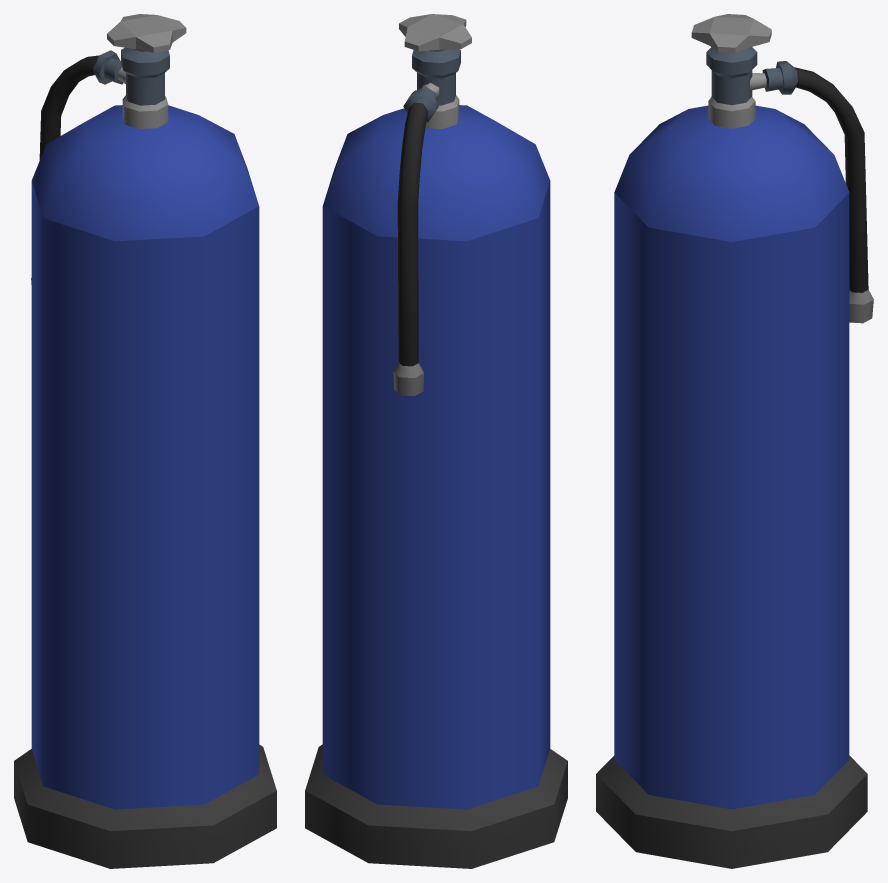
File: GasCylinder_1_1.fbx
The picture shows the model from 3 angles, left to right: view 1: azimuth 30°, elevation 25°; view 2: azimuth 150°, elevation 25°; view 3: azimuth 270°, elevation 25°; orthographic projection.
Visible parts, largest first — view 1: GasCylinder_1_1; view 2: GasCylinder_1_1; view 3: GasCylinder_1_1.
Part boxes in pixels (x1,y1,x2,y2): GasCylinder_1_1: (14, 14, 276, 868); GasCylinder_1_1: (305, 14, 567, 868); GasCylinder_1_1: (596, 14, 873, 868).
Bounding box in the file's own units: 27.47 × 87.73 × 28.1.
